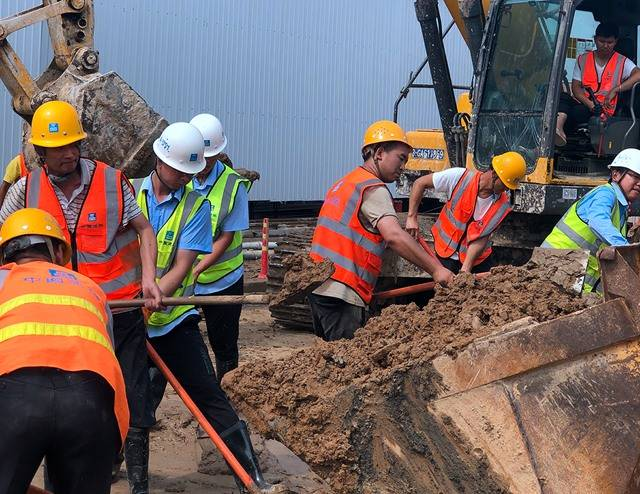head: (593, 22, 621, 56)
person: (1, 101, 165, 494), (128, 122, 288, 494), (1, 208, 130, 494), (306, 120, 454, 340), (189, 113, 256, 381), (404, 149, 527, 277), (538, 146, 640, 288), (555, 22, 640, 145)
reflective_vest: (1, 261, 131, 449), (24, 160, 142, 310), (307, 165, 396, 309), (128, 176, 211, 326), (537, 182, 627, 288), (428, 167, 514, 266), (186, 162, 254, 285), (576, 51, 627, 121)
safety_helmet: (26, 99, 88, 176), (1, 207, 74, 267), (151, 120, 207, 193), (359, 119, 414, 184), (188, 112, 229, 177), (482, 149, 527, 196), (606, 147, 640, 201)
